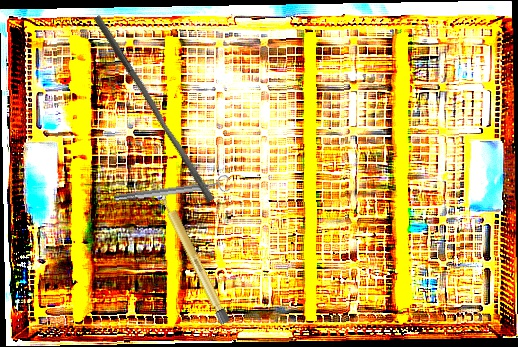Fixation Ring: (113, 174, 231, 207)
Pusher: (86, 14, 221, 204)
Scalpel Handle: (158, 191, 231, 326)
